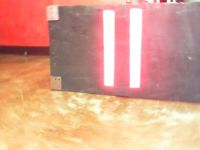switch: (102, 10, 115, 86), (130, 8, 142, 88)
